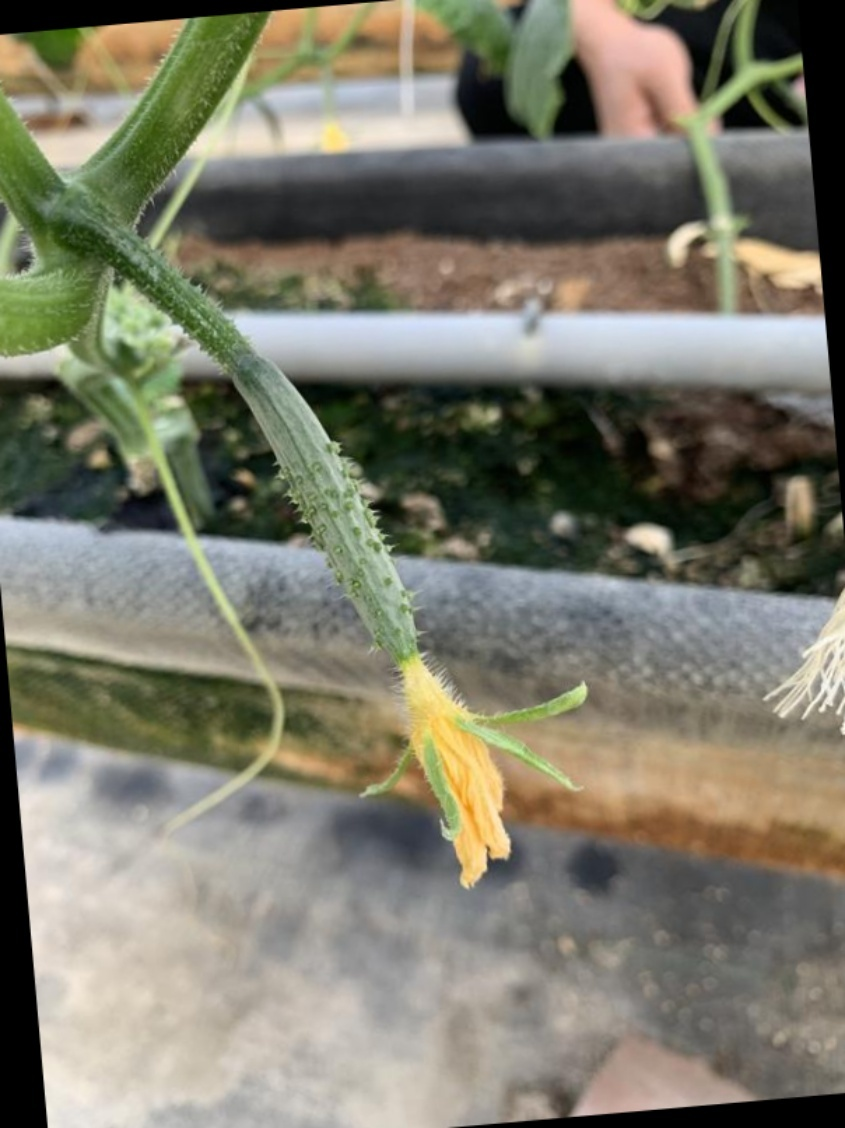bear: (166, 300, 595, 906)
